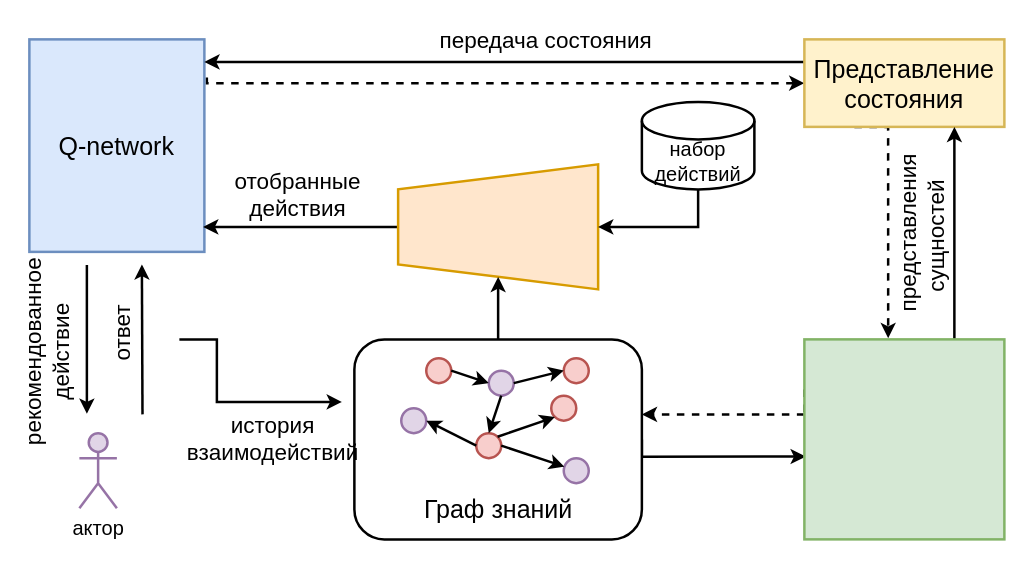
This 1028x561 diagram has some shape labels left out. Here are the shapes that lost their labels. From the top down, the centre of each, then its label:
[497,226]: Отбор возм.действий
[903,439]: Кодировщик
